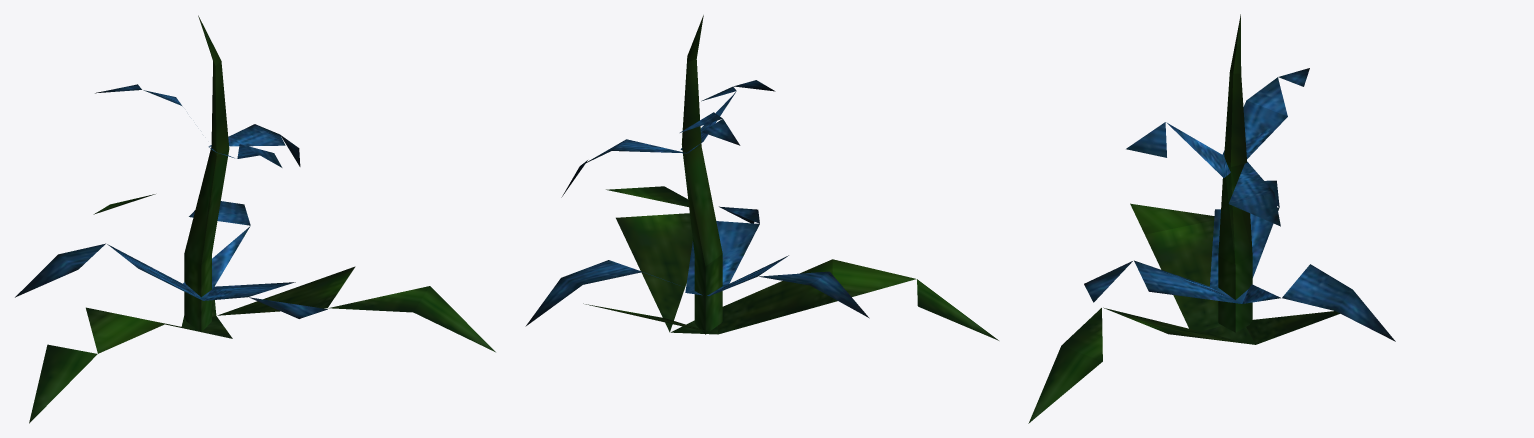
The model's file is ITPL_MANA_HERB_01.glb.
3 views of the same model, side by side, from view 1: azimuth 30°, elevation 25°; view 2: azimuth 150°, elevation 25°; view 3: azimuth 270°, elevation 25° (orthographic).
Visible parts, largest first — view 1: ITPL_MANA_HERB_01; view 2: ITPL_MANA_HERB_01; view 3: ITPL_MANA_HERB_01.
Part boxes in pixels (<box>): ITPL_MANA_HERB_01: <box>15,15,495,423</box>; ITPL_MANA_HERB_01: <box>525,15,998,340</box>; ITPL_MANA_HERB_01: <box>1028,14,1395,423</box>.
Bounding box in the file's own units: 0.4126 × 0.2918 × 0.4084.
Materials: 2 (2 with a texture image).
